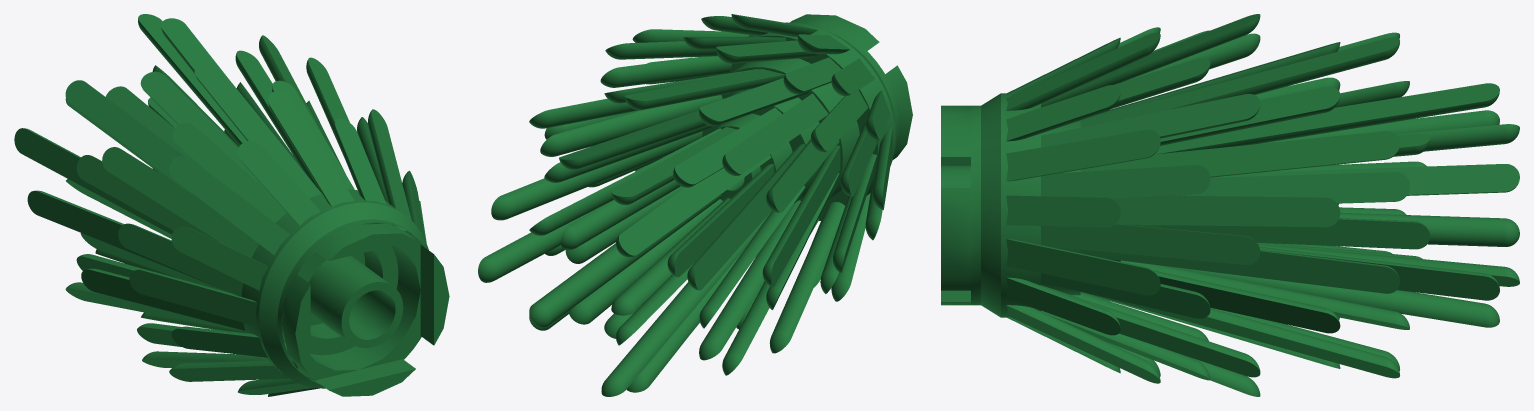
File: planta1Ent.dae
The picture shows the model from 3 angles, left to right: view 1: azimuth 30°, elevation 25°; view 2: azimuth 150°, elevation 25°; view 3: azimuth 270°, elevation 25°; orthographic projection. The views are drawn at different scales.
Parts seen in each view (by area): view 1: Inner-Node-UntitledModel_dot_io-0; view 2: Inner-Node-UntitledModel_dot_io-0; view 3: Inner-Node-UntitledModel_dot_io-0.
Part boxes in pixels (left/top/right/bottom): Inner-Node-UntitledModel_dot_io-0: left=14, top=14, right=449, bottom=396; Inner-Node-UntitledModel_dot_io-0: left=478, top=14, right=912, bottom=396; Inner-Node-UntitledModel_dot_io-0: left=941, top=14, right=1519, bottom=396.
Bounding box in the file's own units: 77.18 × 77.1 × 116.
